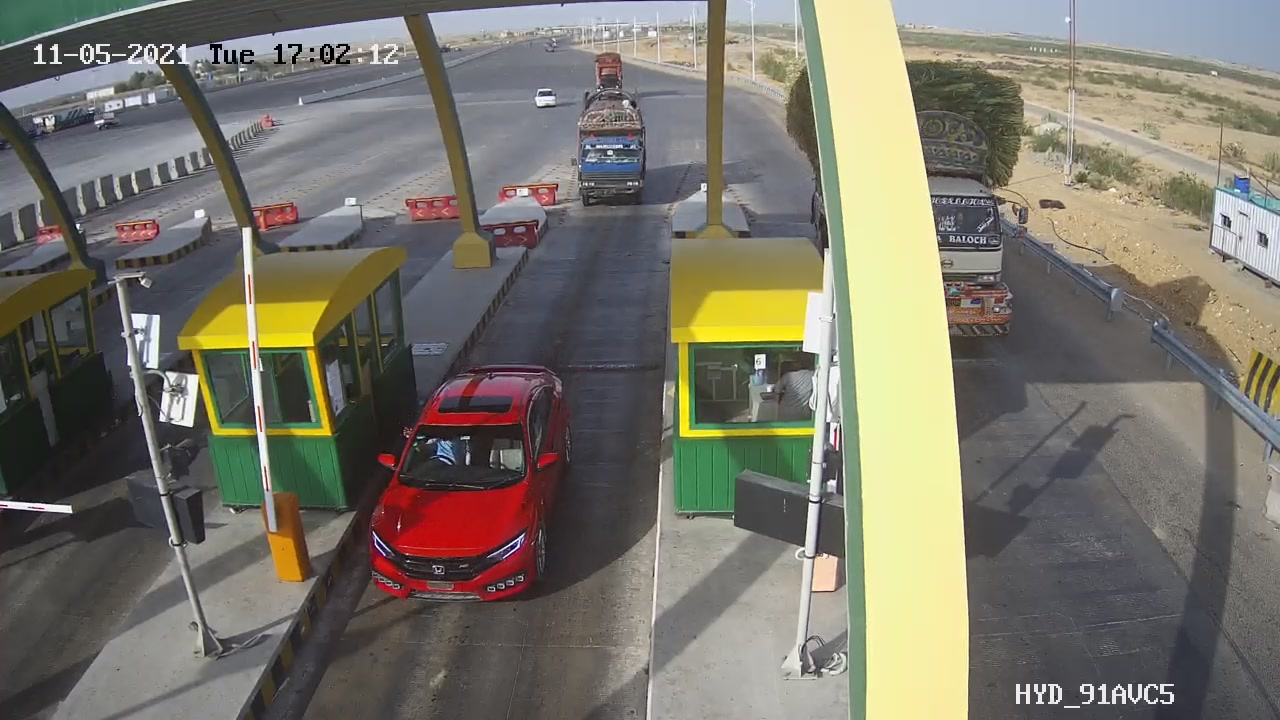F1: (331, 352, 620, 629)
